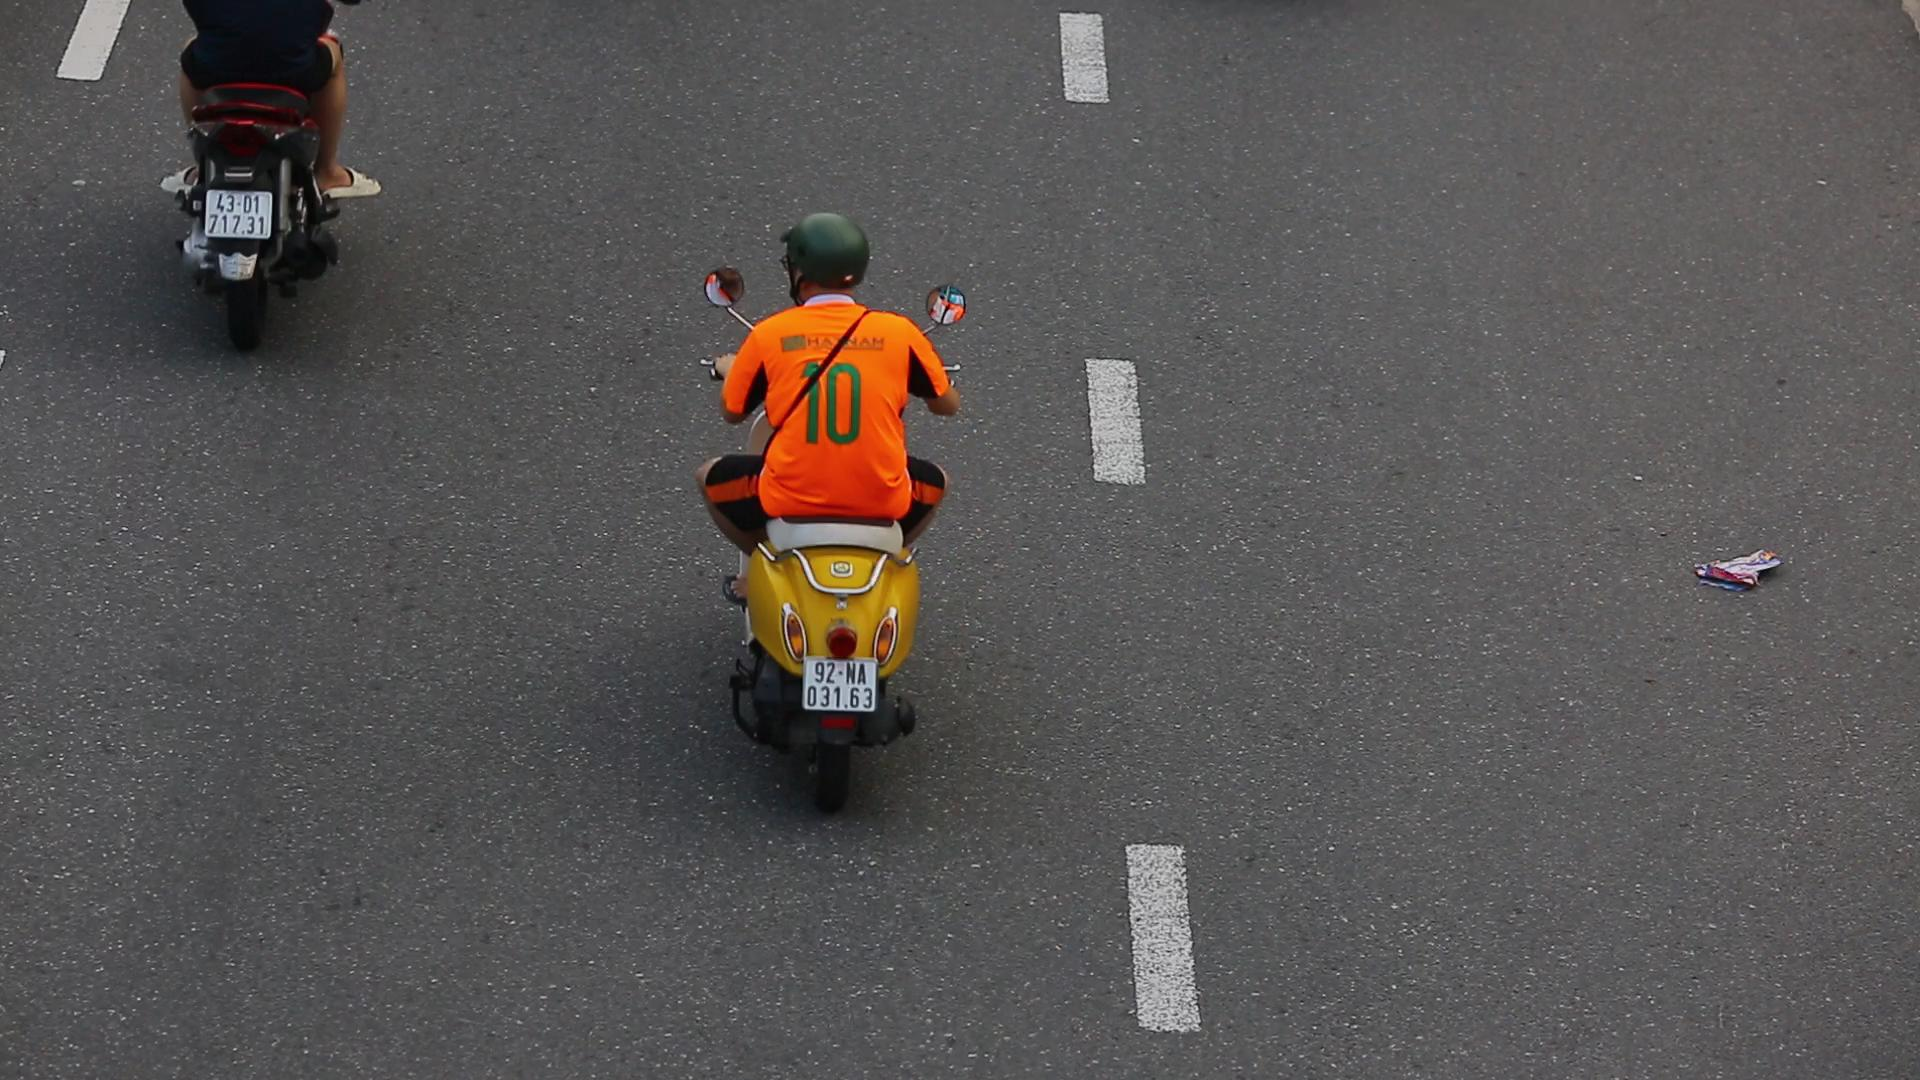motobike: (671, 206, 984, 831)
